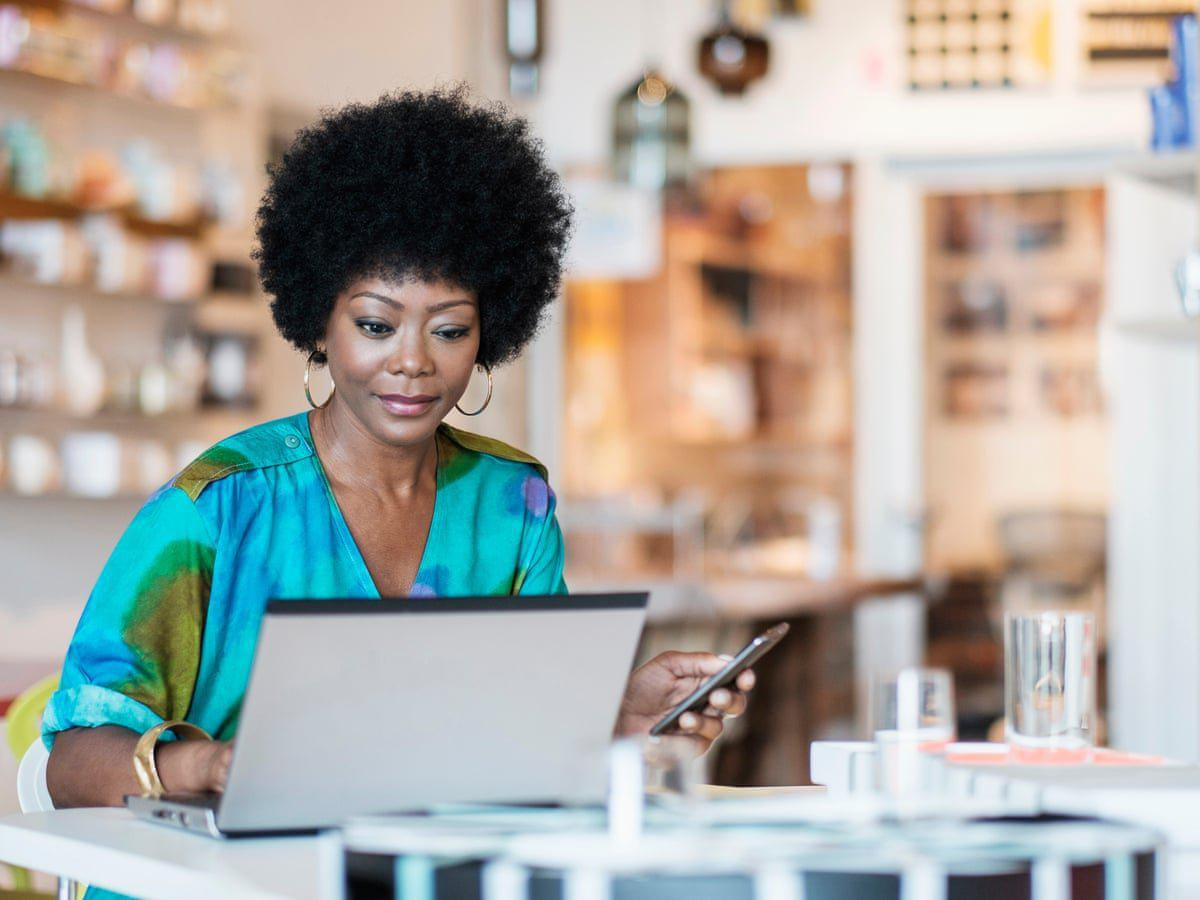Sober: (349, 266, 478, 421)
